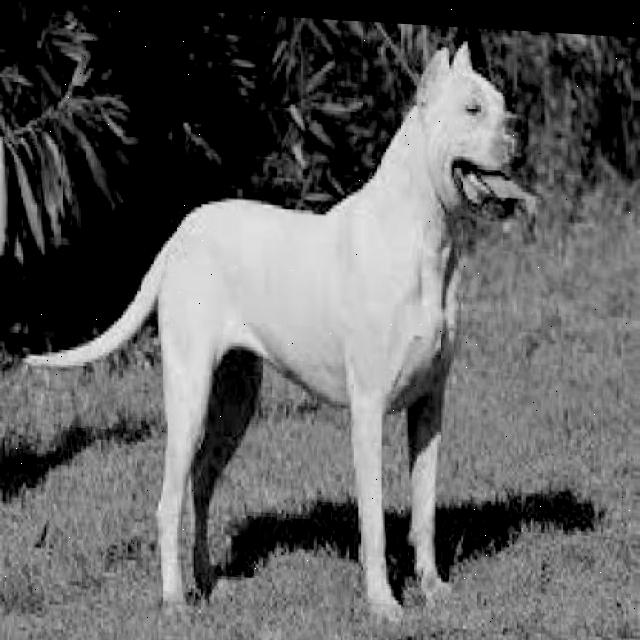Dog: (24, 21, 542, 640)
